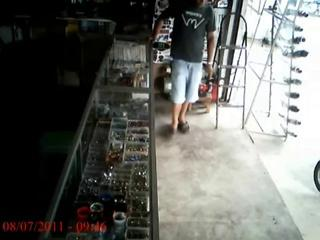Normal: (148, 0, 218, 134)
